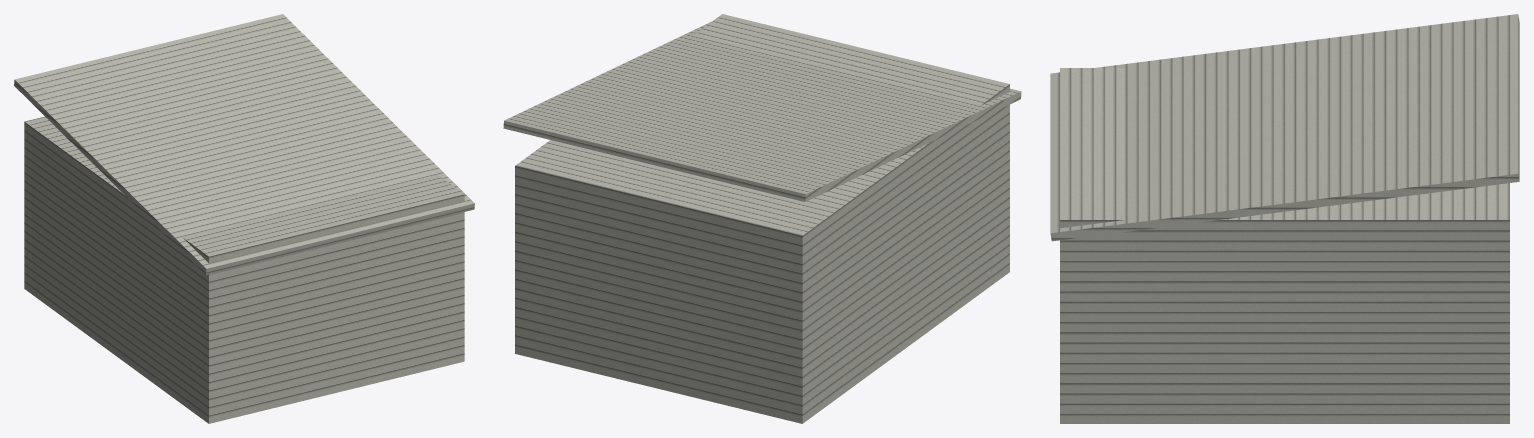
The model's file is workshop_detached.glb.
3 renders of one model, left to right at view 1: azimuth 30°, elevation 25°; view 2: azimuth 150°, elevation 25°; view 3: azimuth 270°, elevation 25°, orthographic. The views are drawn at different scales.
Parts seen in each view (by area): view 1: workshop_detached-col; view 2: workshop_detached-col; view 3: workshop_detached-col.
Part boxes in pixels (bbox=[...]): workshop_detached-col: bbox=[14, 14, 474, 423]; workshop_detached-col: bbox=[503, 14, 1021, 423]; workshop_detached-col: bbox=[1050, 14, 1519, 423].
Size of the model in its own units: 4.2 by 3.11 by 5.21.
Materials: 1 (1 with a texture image).
